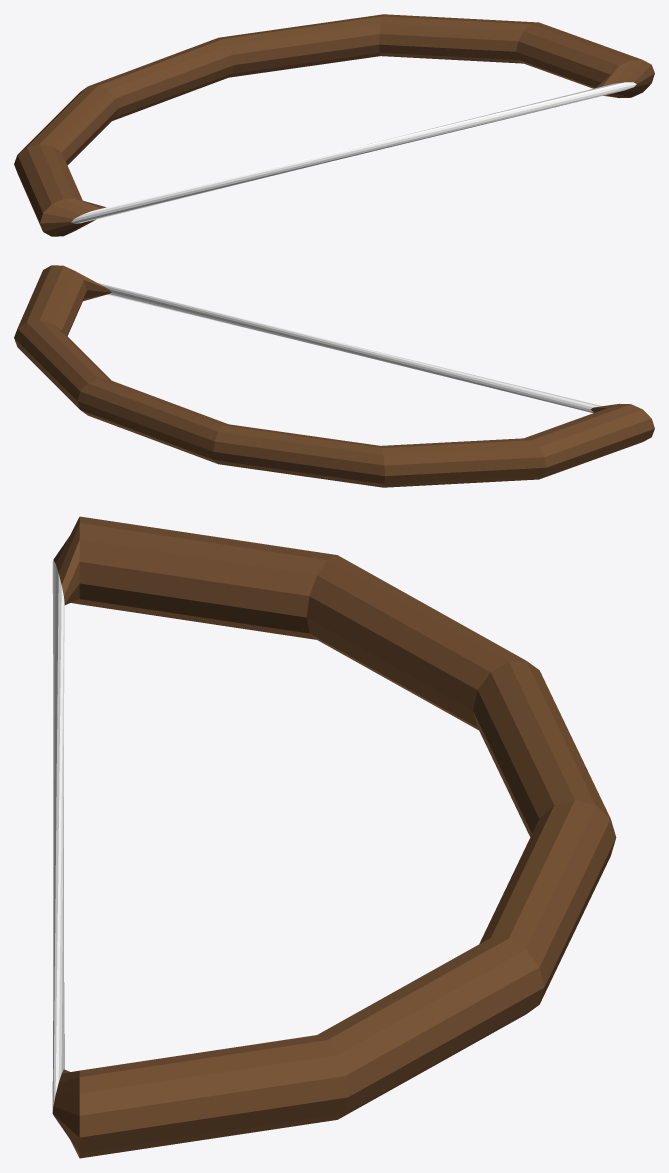
File: simplebow.glb
3 views of the same model, one above another, from view 1: azimuth 30°, elevation 25°; view 2: azimuth 150°, elevation 25°; view 3: azimuth 270°, elevation 25° (orthographic). The views are drawn at different scales.
Visible parts, largest first — view 1: pTorus1; view 2: pTorus1; view 3: pTorus1.
Boxes of the visible parts, x1=… form: pTorus1: x1=14, y1=14, x2=654, y2=236; pTorus1: x1=14, y1=265, x2=654, y2=487; pTorus1: x1=52, y1=516, x2=616, y2=1158.
Size of the model in its own units: 0.172 by 0.01 by 0.0683.
